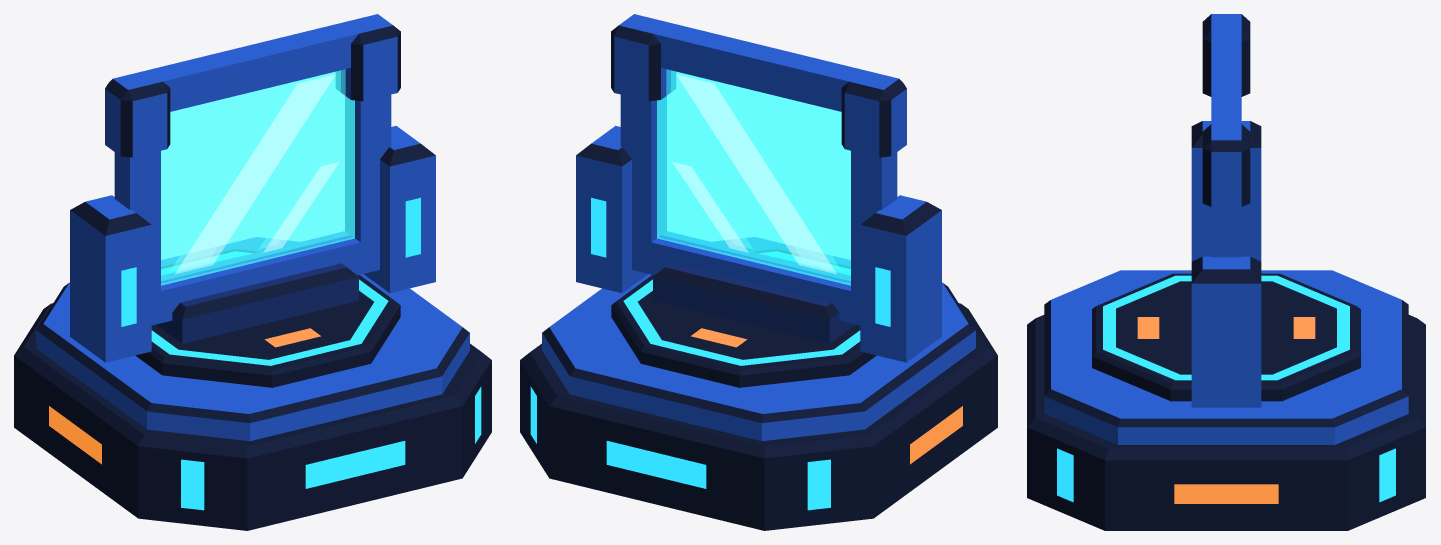
File: mirror.glb
3 renders of one model, left to right at view 1: azimuth 30°, elevation 25°; view 2: azimuth 150°, elevation 25°; view 3: azimuth 270°, elevation 25°, orthographic. The views are drawn at different scales.
Parts seen in each view (by area): view 1: Mirror_HeadBody, Mirror_Base, Mirror_Glass, Mirror_BaseLights, Mirror_HeadLights; view 2: Mirror_HeadBody, Mirror_Base, Mirror_Glass, Mirror_BaseLights, Mirror_HeadLights; view 3: Mirror_Base, Mirror_HeadBody, Mirror_HeadLights, Mirror_BaseLights.
Part boxes in pixels (x1,y1,x2,y2): Mirror_HeadBody: (70,14,435,387); Mirror_Base: (14,237,491,530); Mirror_Glass: (161,69,354,285); Mirror_BaseLights: (49,386,481,510); Mirror_HeadLights: (121,197,420,365); Mirror_HeadBody: (576,14,941,387); Mirror_Base: (520,237,997,530); Mirror_Glass: (657,69,850,285); Mirror_BaseLights: (530,386,962,510); Mirror_HeadLights: (591,197,890,365); Mirror_Base: (1027,270,1425,530); Mirror_HeadBody: (1092,14,1360,407); Mirror_HeadLights: (1103,275,1349,380); Mirror_BaseLights: (1057,448,1395,503).
Size of the model in its own units: 0.924 by 0.94 by 0.924.
